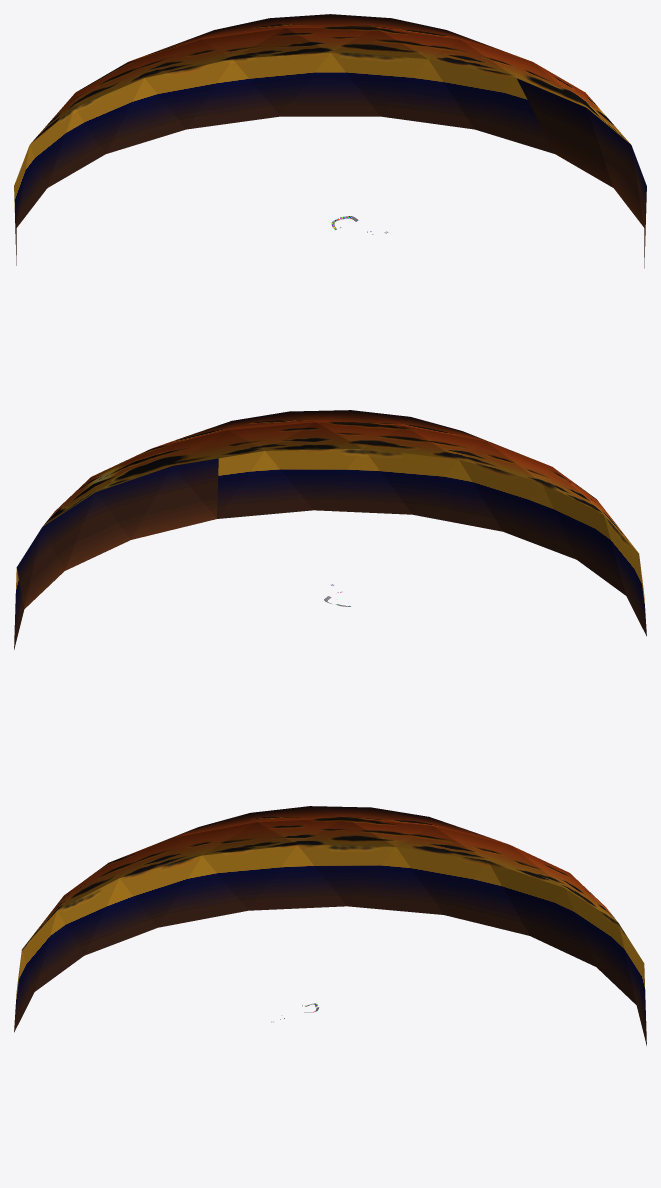
Rendered from vrcorn.glb.
3 views of the same model, one above another, from view 1: azimuth 30°, elevation 25°; view 2: azimuth 150°, elevation 25°; view 3: azimuth 270°, elevation 25° (orthographic).
Parts seen in each view (by area): view 1: vrcorn; view 2: vrcorn; view 3: vrcorn.
Boxes of the visible parts, bbox=[...] form: vrcorn: bbox=[14, 14, 646, 268]; vrcorn: bbox=[14, 410, 646, 649]; vrcorn: bbox=[14, 806, 646, 1045].
Size of the model in its own units: 7846 by 2739 by 7846.
Materials: 2 (2 with a texture image).
